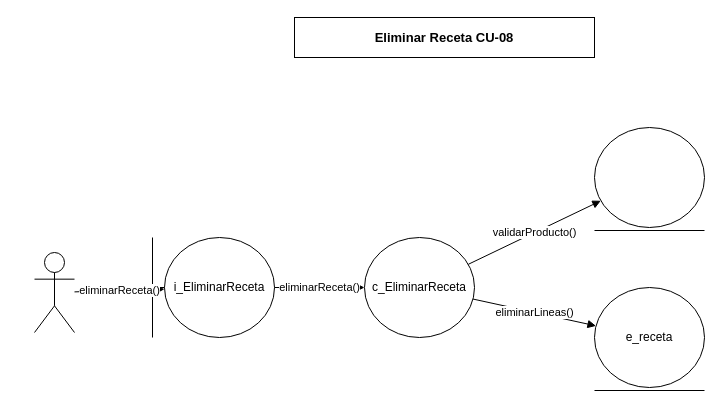
Some shapes in this 723 by 409 pixel diagram are drawn without their labels. Each missing label, with the box of its shape:
Administrador: (34, 252, 74, 332)
e_producto: (594, 126, 704, 228)
